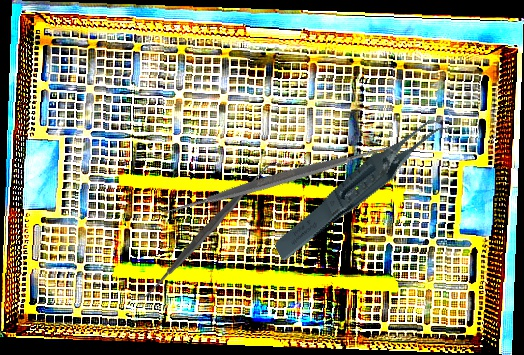Spatula Surgical: (157, 57, 400, 303), (136, 157, 280, 304)
Tissue Forceps: (254, 112, 475, 264)
